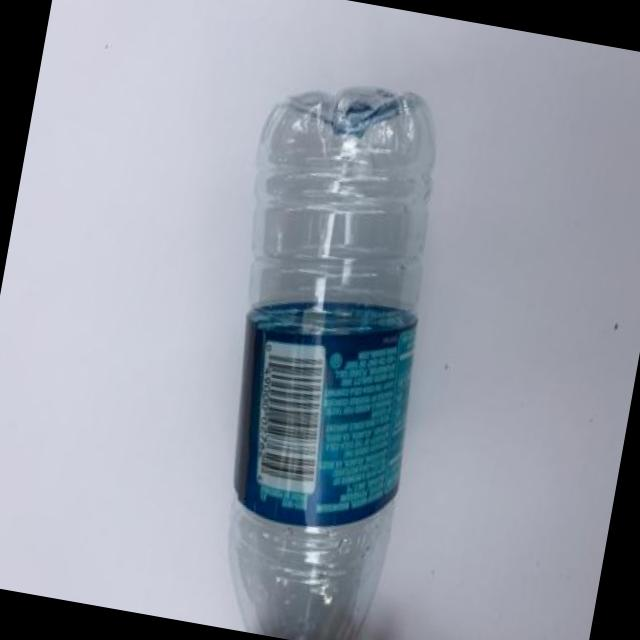Recycle: (174, 65, 472, 640)
